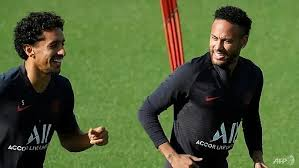No-Glasses: (207, 31, 236, 45), (43, 36, 70, 51)
